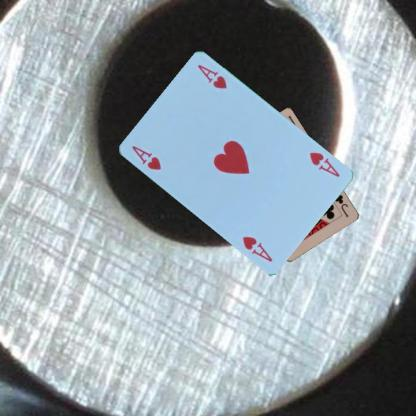Ah: (306, 149, 341, 179), (129, 142, 162, 172)
Jc: (332, 192, 350, 218)
